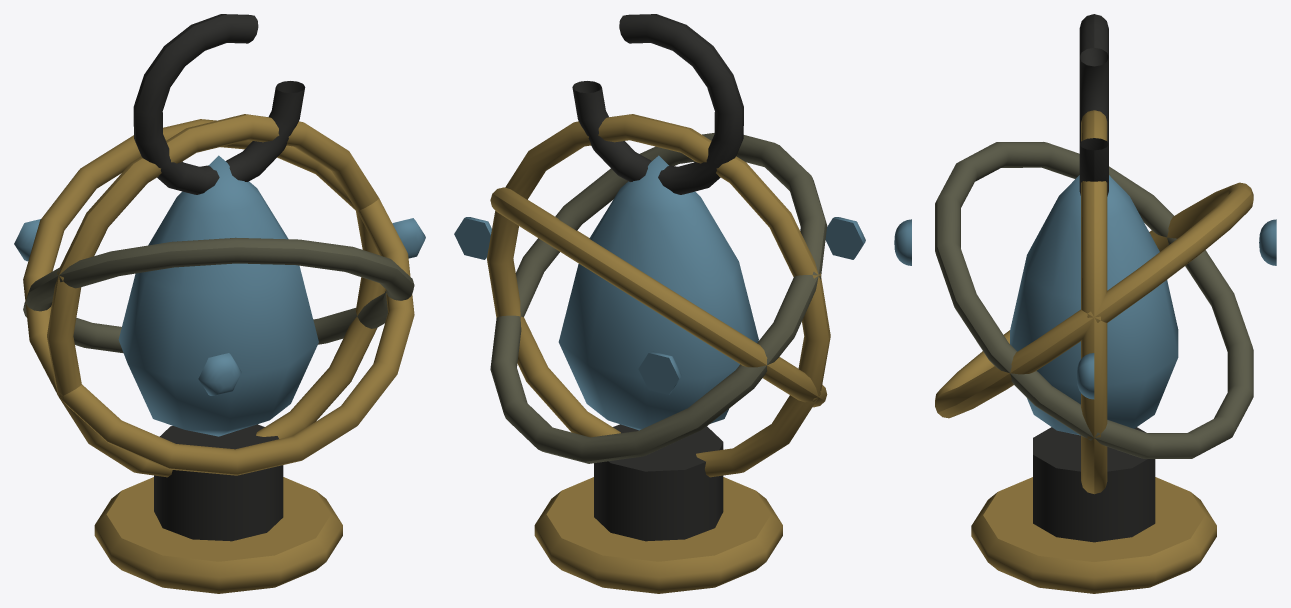
Rendered from philosophers_stone.obj.
3 renders of one model, left to right at view 1: azimuth 30°, elevation 25°; view 2: azimuth 150°, elevation 25°; view 3: azimuth 270°, elevation 25°, orthographic.
Parts seen in each view (by area): view 1: philosophers_stone; view 2: philosophers_stone; view 3: philosophers_stone.
Boxes of the visible parts, left/top/right/bottom form: philosophers_stone: left=14, top=14, right=425, bottom=593; philosophers_stone: left=454, top=14, right=865, bottom=593; philosophers_stone: left=894, top=14, right=1276, bottom=593.
Size of the model in its own units: 1.47 by 1.98 by 1.31.
